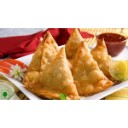samosa: (35, 47, 78, 100), (70, 43, 112, 90), (28, 30, 73, 71)
